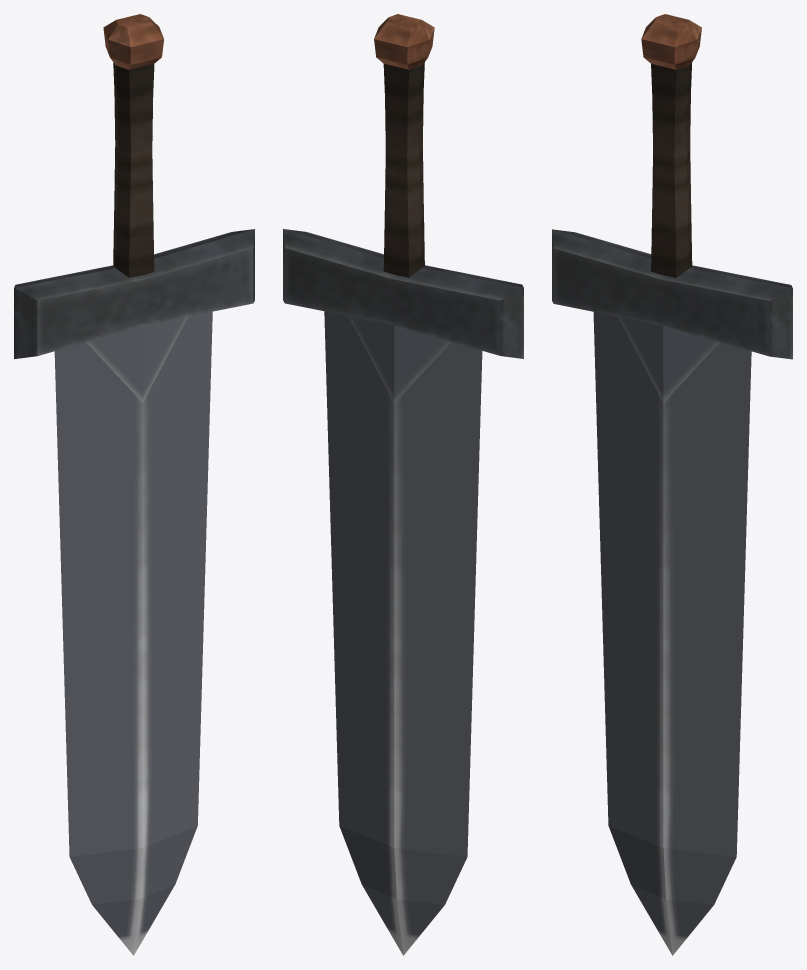
The model's file is etc_Sword01.FBX.
3 views of the same model, side by side, from view 1: azimuth 30°, elevation 25°; view 2: azimuth 150°, elevation 25°; view 3: azimuth 330°, elevation 25° (orthographic).
Visible parts, largest first — view 1: etc_Sword01; view 2: etc_Sword01; view 3: etc_Sword01.
Part boxes in pixels (bbox=[...]): etc_Sword01: bbox=[14, 14, 254, 955]; etc_Sword01: bbox=[283, 14, 523, 955]; etc_Sword01: bbox=[552, 14, 792, 955].
Bounding box in the file's own units: 53.1 × 197 × 10.35.
